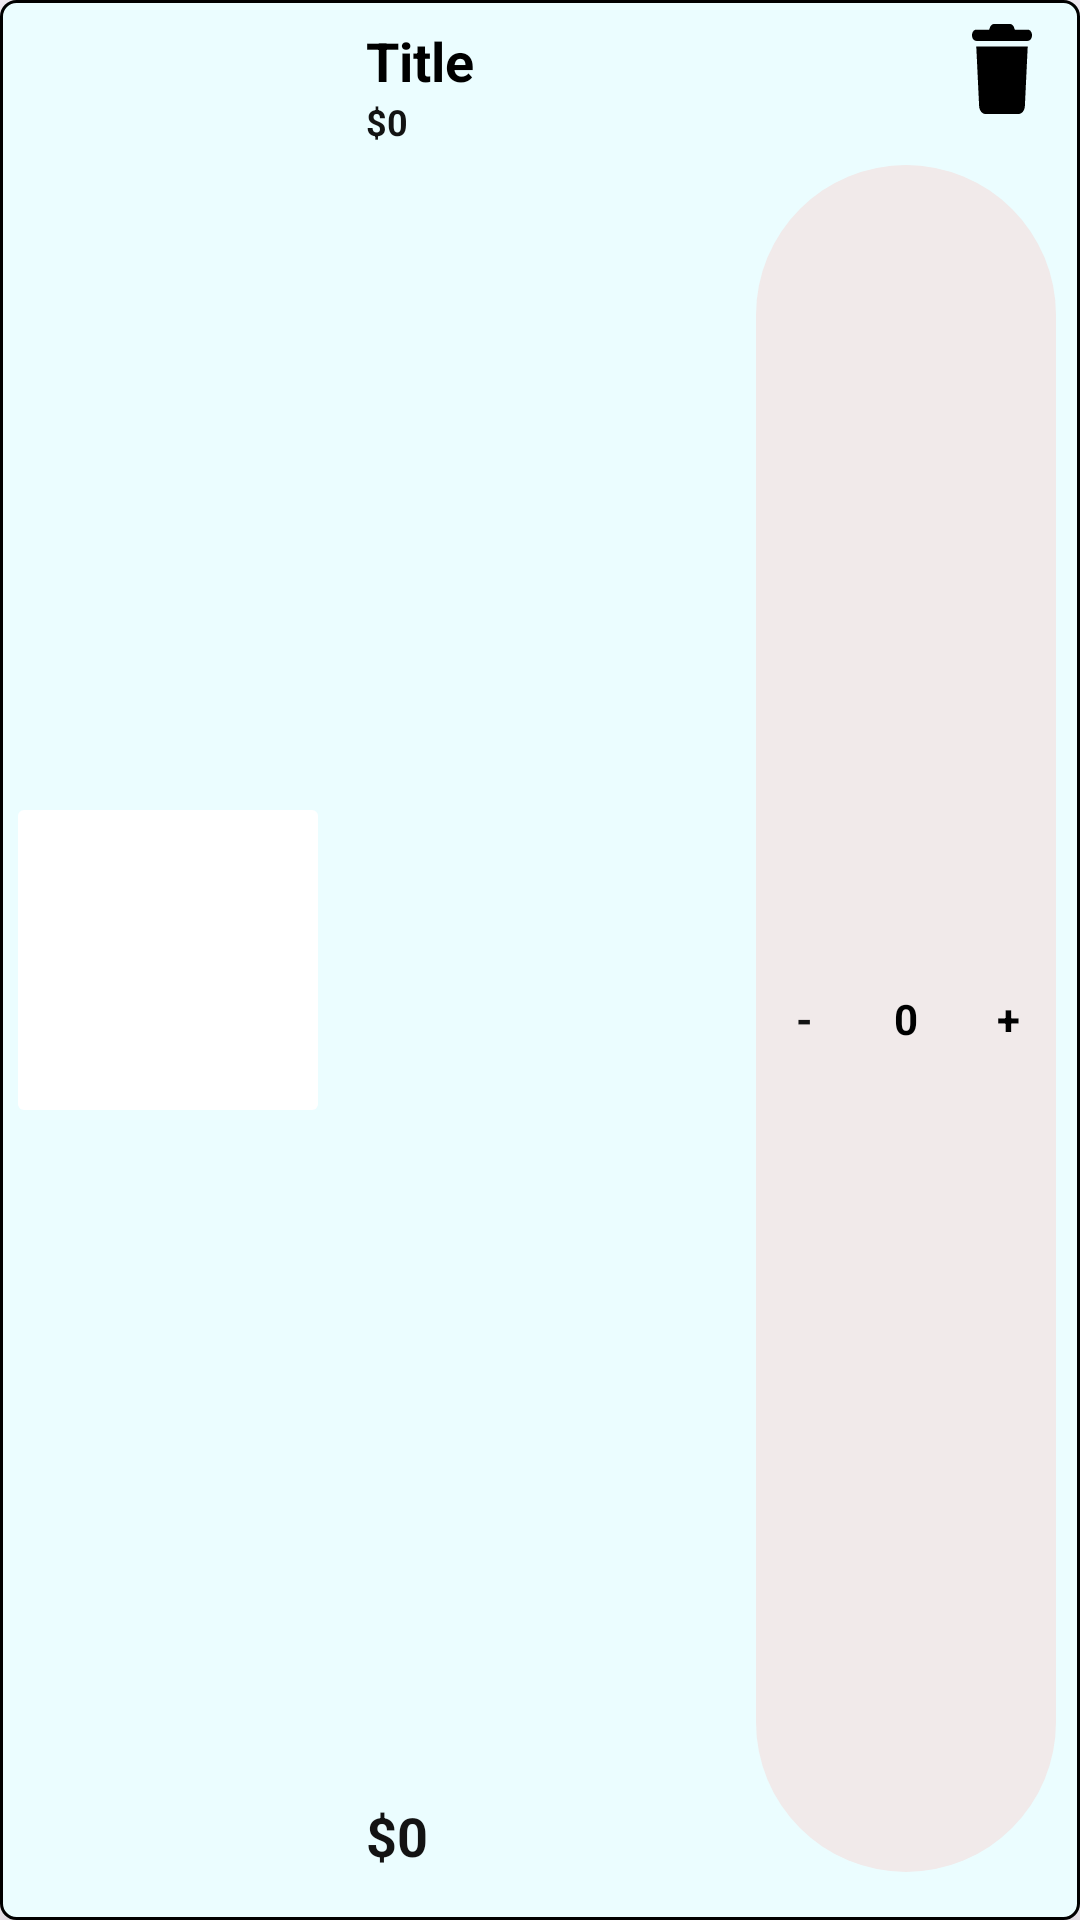

Where icons sit on this 1080w x 1920h app screen, as (x1, y1, x2, y2):
trash: (972, 24, 1032, 114)
